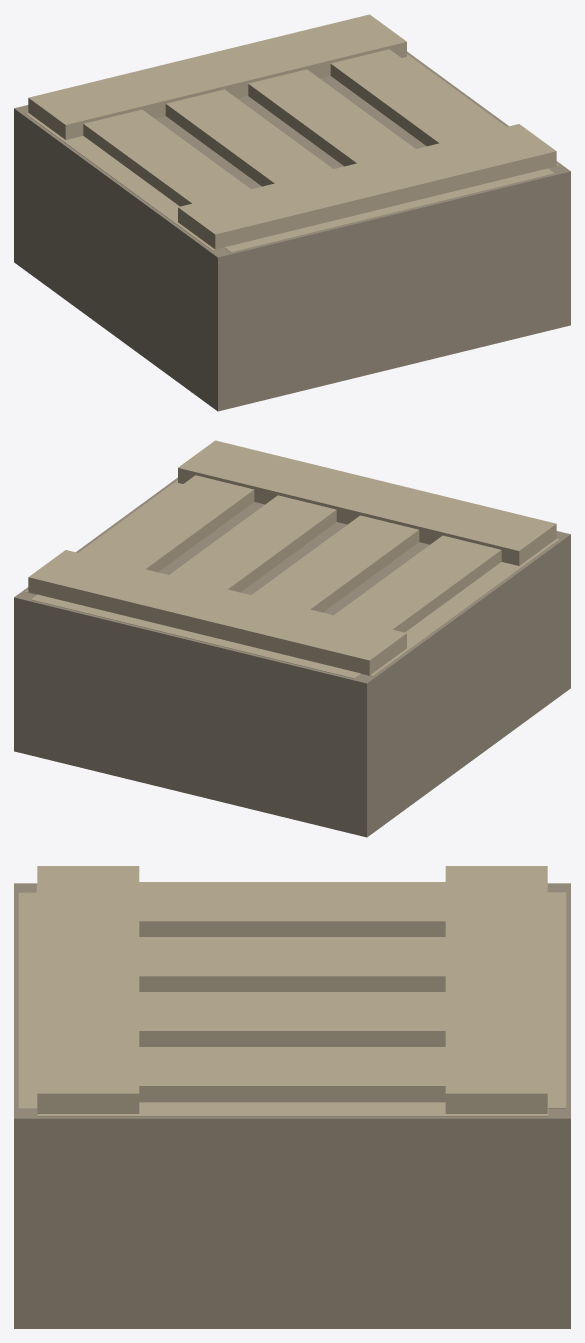
Rendered from trench-line-1917-drainage-sump-4ab18607__24048.glb.
The picture shows the model from 3 angles, top to bottom: view 1: azimuth 30°, elevation 25°; view 2: azimuth 150°, elevation 25°; view 3: azimuth 270°, elevation 25°; orthographic projection. The views are drawn at different scales.
Visible parts, largest first — view 1: drainage-sump; view 2: drainage-sump; view 3: drainage-sump.
Boxes of the visible parts, box(x1,y1,x2,y2) form: drainage-sump: box(14, 14, 570, 411); drainage-sump: box(14, 440, 570, 837); drainage-sump: box(14, 866, 570, 1328).
Size of the model in its own units: 1.2 by 0.55 by 1.2.
